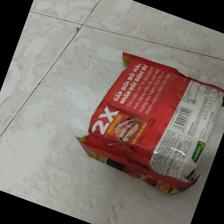3mien: (75, 50, 224, 196)
